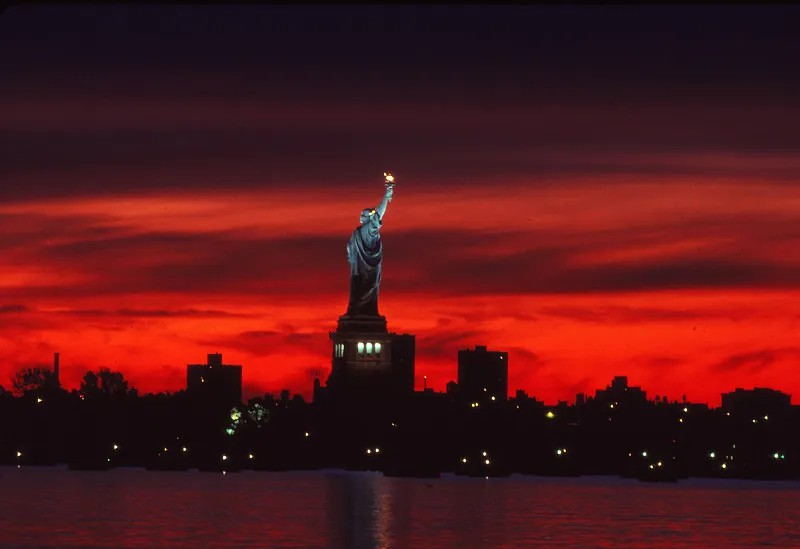SL: (326, 173, 394, 386)
